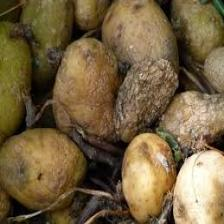Damaged potato: (47, 35, 116, 152), (0, 126, 86, 211), (98, 0, 184, 82), (114, 125, 176, 222), (107, 55, 172, 138), (154, 84, 224, 155), (169, 144, 224, 224)
